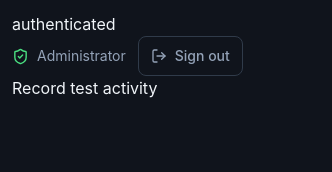
Test: Administrator controls › does not report successful revocation after a logout failure
Click the button "Sign out" at (190,56), box [138,36,243,76]
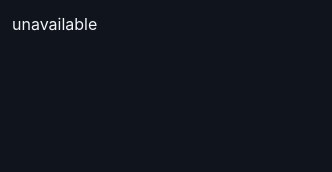
Expected: the text with test id "auth-state" reads "unavailable", [12,14,97,34]
